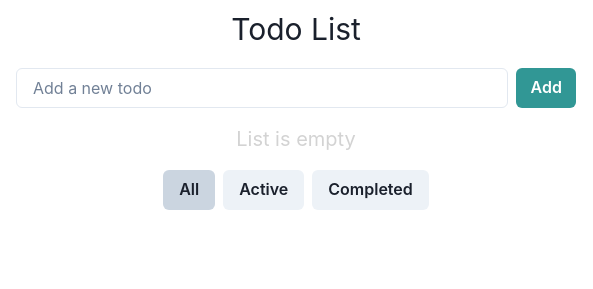
Test case: TodoApp › filters todos
Type "Active Todo" into the field with placeholder "Add a new todo" at (262, 88), box [16, 68, 508, 108]
Click the button "Add" at (546, 88), box [516, 68, 576, 108]
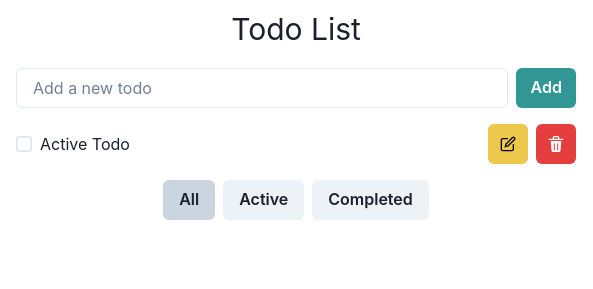
Type "Completed Todo" into the field with placeholder "Add a new todo" at (262, 88), box [16, 68, 508, 108]
Click the button "Add" at (546, 88), box [516, 68, 576, 108]
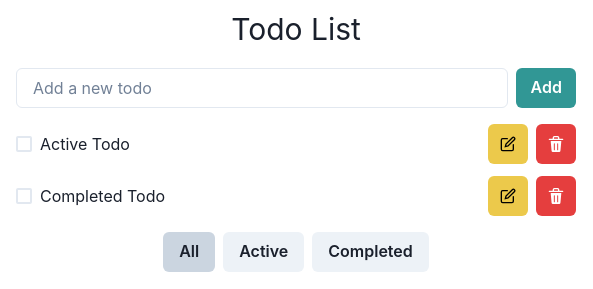
Click the checkbox next to "Completed Todo" at (24, 196), box [16, 188, 32, 204]
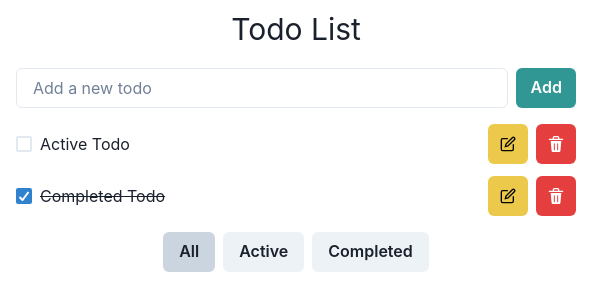
Click the button "Active" at (264, 252), box [223, 232, 304, 272]
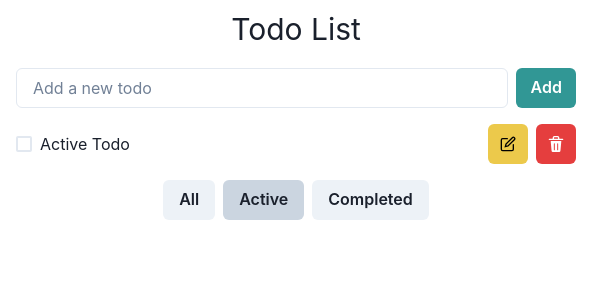
Expected: the text "Active Todo" is shown, [40, 134, 130, 154]
Expected: the text "Completed Todo" is gone
Click the button "Completed" at (371, 200), box [312, 180, 429, 220]
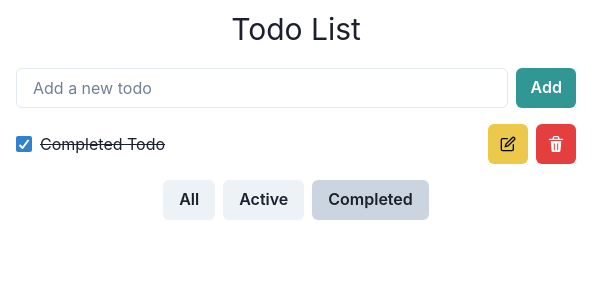
Expected: the text "Active Todo" is gone
Expected: the text "Completed Todo" is shown, [40, 134, 165, 154]
Click the button "All" at (189, 200), box [163, 180, 215, 220]
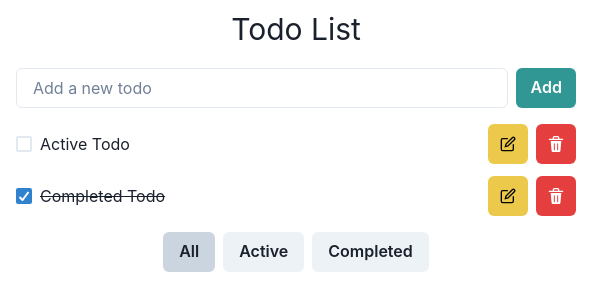
Expected: the text "Completed Todo" is shown, [40, 186, 165, 206]
Expected: the text "Active Todo" is shown, [40, 134, 130, 154]
